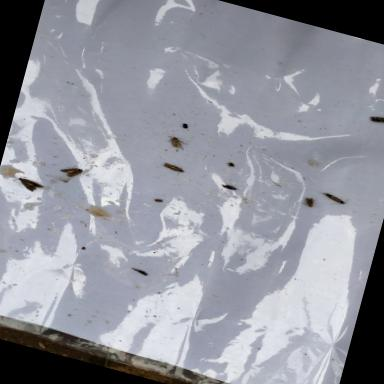pbw: (12, 175, 46, 195), (318, 192, 350, 210), (162, 132, 190, 152), (59, 162, 85, 180), (367, 107, 384, 129), (161, 162, 185, 177), (300, 196, 316, 210)
